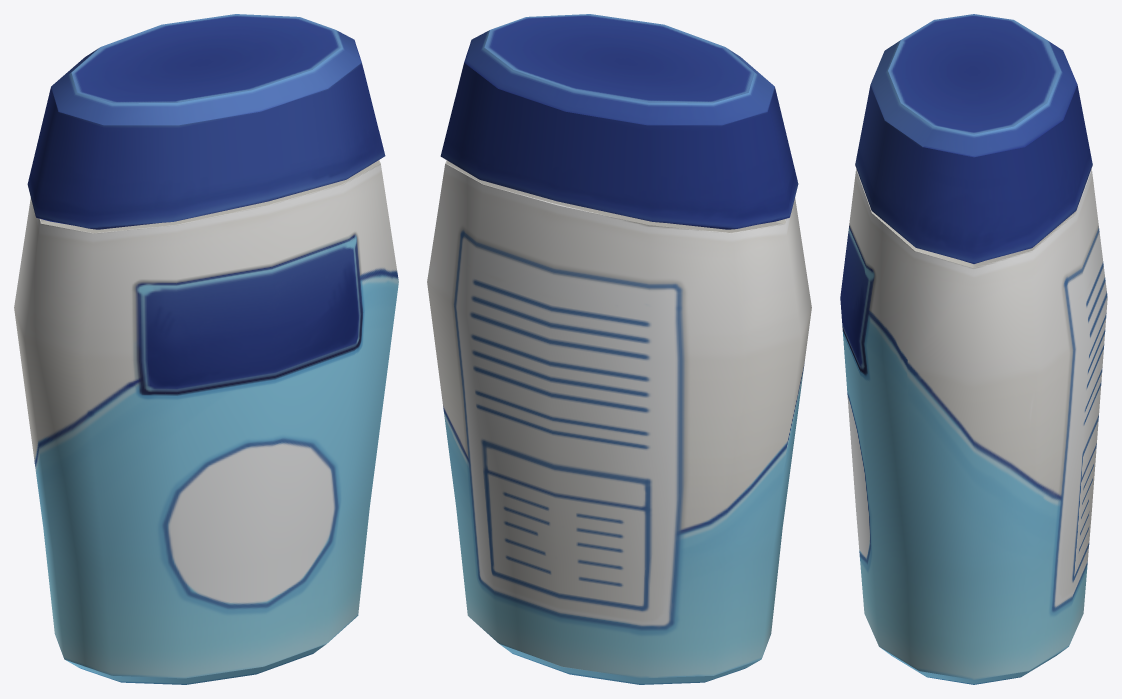
The model's file is bathroom_shampoo_bottle.fbx.
3 views of the same model, side by side, from view 1: azimuth 30°, elevation 25°; view 2: azimuth 150°, elevation 25°; view 3: azimuth 270°, elevation 25° (orthographic). The views are drawn at different scales.
Parts seen in each view (by area): view 1: bathroom_shampoo_bottle; view 2: bathroom_shampoo_bottle; view 3: bathroom_shampoo_bottle.
Part boxes in pixels (bbox=[...]): bathroom_shampoo_bottle: bbox=[14, 14, 398, 684]; bathroom_shampoo_bottle: bbox=[427, 14, 811, 684]; bathroom_shampoo_bottle: bbox=[840, 14, 1107, 684].
Size of the model in its own units: 17.59 by 26.82 by 11.7.
